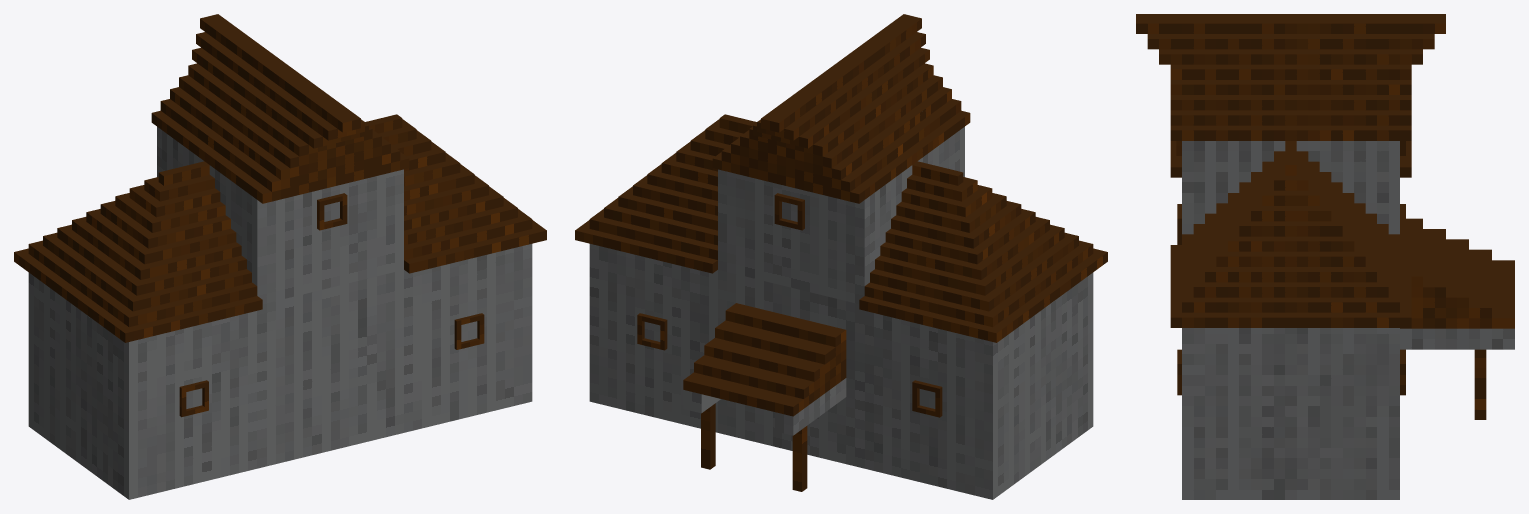
File: Expedition_camp.glb
3 renders of one model, left to right at view 1: azimuth 30°, elevation 25°; view 2: azimuth 150°, elevation 25°; view 3: azimuth 270°, elevation 25°, orthographic. The views are drawn at different scales.
Parts seen in each view (by area): view 1: Expedition Camp; view 2: Expedition Camp; view 3: Expedition Camp.
Part boxes in pixels (<box>): Expedition Camp: <box>14,14,546,499</box>; Expedition Camp: <box>575,14,1107,499</box>; Expedition Camp: <box>1136,14,1514,499</box>.
Bounding box in the file's own units: 2.88 × 2.25 × 2.06.
Materials: 1 (1 with a texture image).
